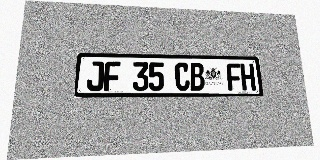3: (133, 62, 148, 91)
5: (149, 62, 164, 91)
B: (189, 63, 205, 91)
C: (174, 62, 190, 91)
F: (104, 61, 120, 91), (226, 63, 242, 90)
H: (240, 63, 256, 90)
J: (86, 61, 104, 91)
